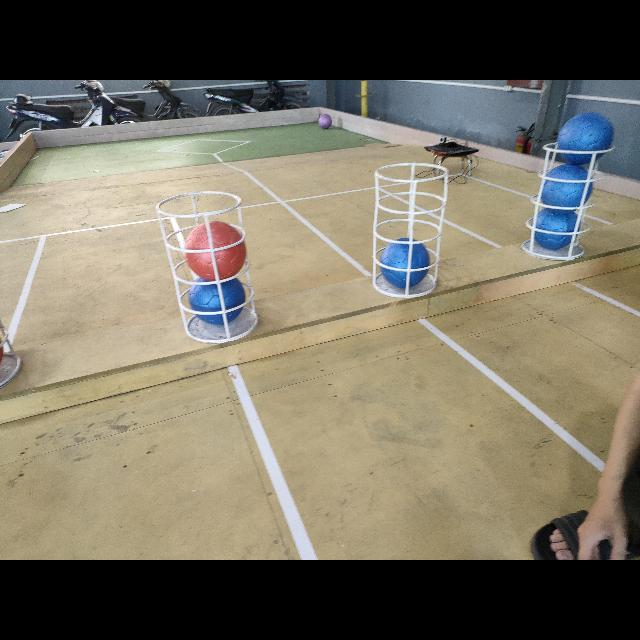B: (555, 110, 615, 160), (188, 277, 248, 323), (539, 160, 589, 212), (381, 236, 431, 284), (530, 207, 580, 250)
R: (185, 220, 249, 280)
